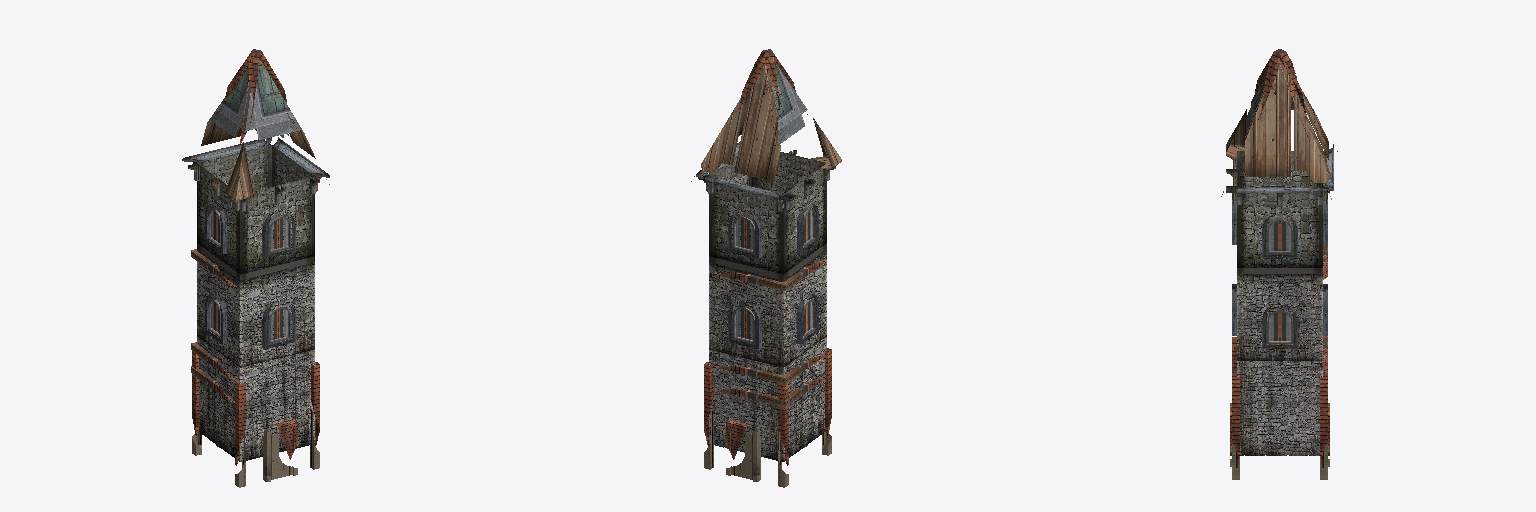
3 renders of one model, left to right at view 1: azimuth 30°, elevation 25°; view 2: azimuth 150°, elevation 25°; view 3: azimuth 270°, elevation 25°, orthographic.
Visible parts, largest first — view 1: Tower; view 2: Tower; view 3: Tower.
Boxes of the visible parts, <box> form: Tower: <box>182,49,329,487</box>; Tower: <box>691,49,841,487</box>; Tower: <box>1221,49,1337,479</box>.
Bounding box in the file's own units: 12.94 × 46.46 × 12.94.
Materials: 1 (1 with a texture image).